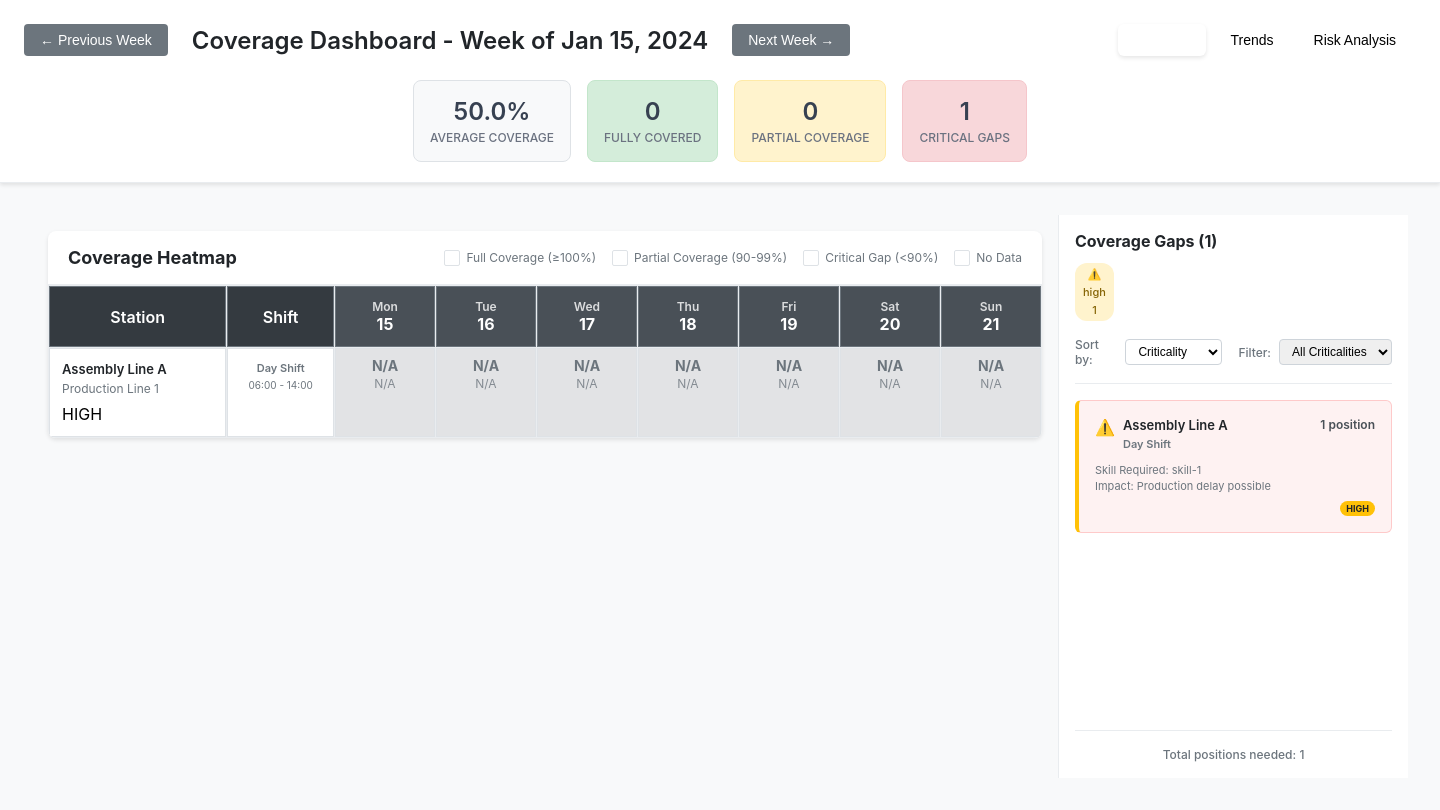
Test: CoverageDashboard › shows no data message when no historical data available
Note: Switch to trends view
Click the button "Trends" at (1252, 40), box [1214,24,1290,56]
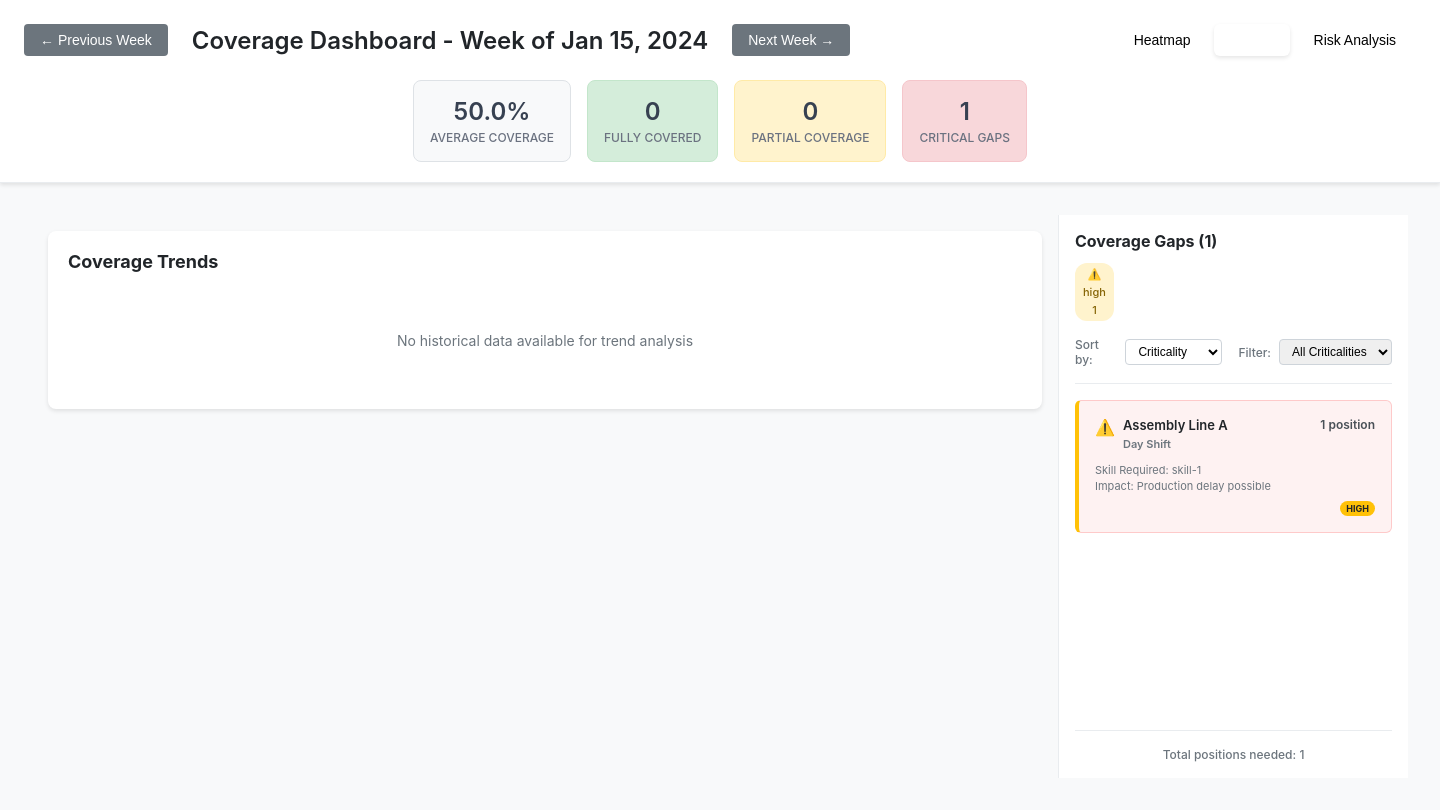
Check: the text "No historical data available for trend analysis" is shown, box [397,332,693,349]
